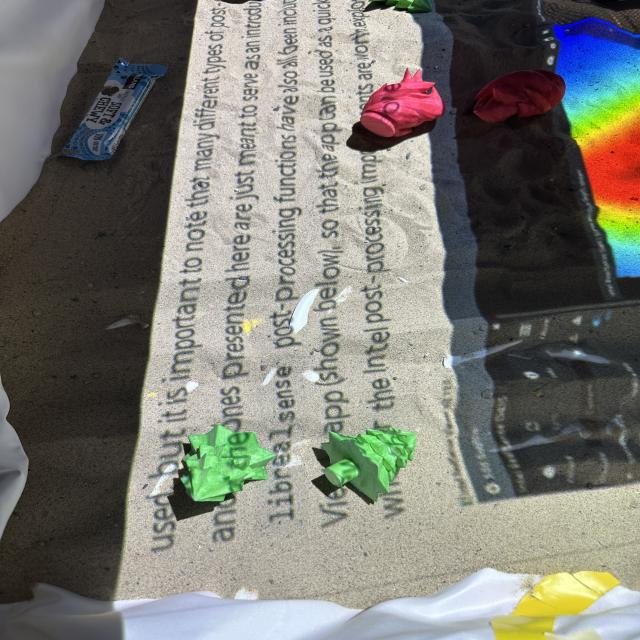fire: (356, 70, 446, 138), (476, 67, 569, 126)
tree: (178, 423, 275, 503), (319, 425, 417, 504)
